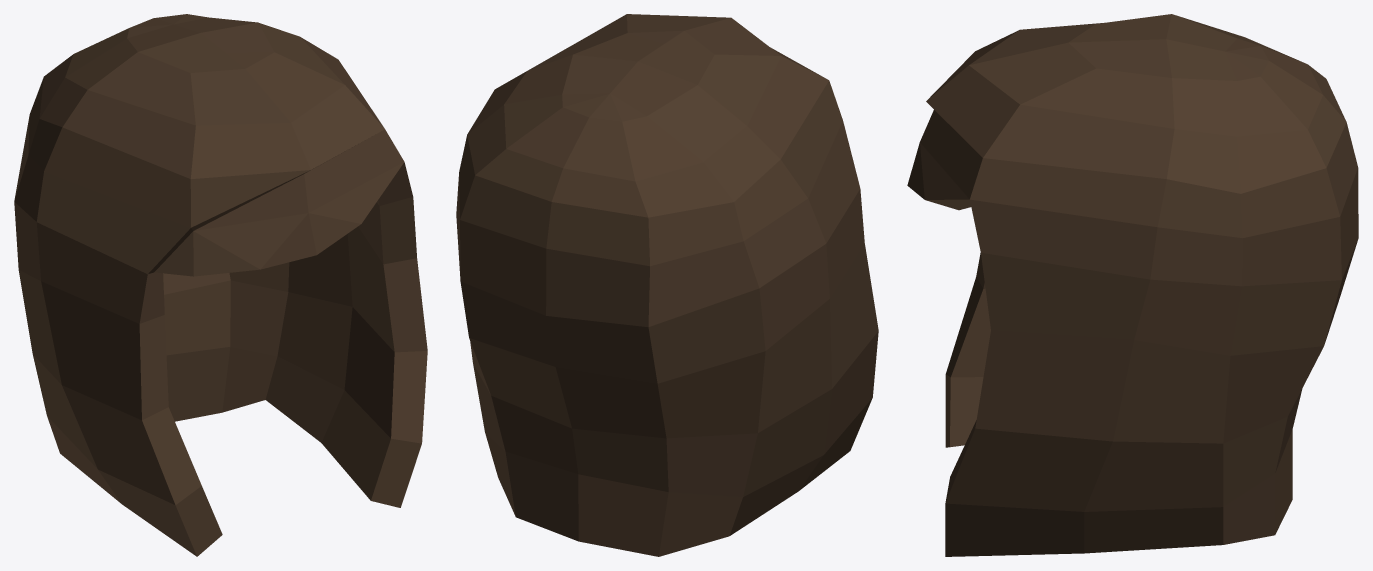
File: crowd_eclair_female_hairstyle_1.785638ef.glb
3 renders of one model, left to right at view 1: azimuth 30°, elevation 25°; view 2: azimuth 150°, elevation 25°; view 3: azimuth 270°, elevation 25°, orthographic. The views are drawn at different scales.
Parts seen in each view (by area): view 1: Female_Hairstyle_1_Cylinder.003; view 2: Female_Hairstyle_1_Cylinder.003; view 3: Female_Hairstyle_1_Cylinder.003.
Boxes of the visible parts, <box> form: Female_Hairstyle_1_Cylinder.003: <box>14,14,427,556</box>; Female_Hairstyle_1_Cylinder.003: <box>456,14,878,556</box>; Female_Hairstyle_1_Cylinder.003: <box>907,14,1358,556</box>.
Bounding box in the file's own units: 0.5232 × 0.6348 × 0.5585.
